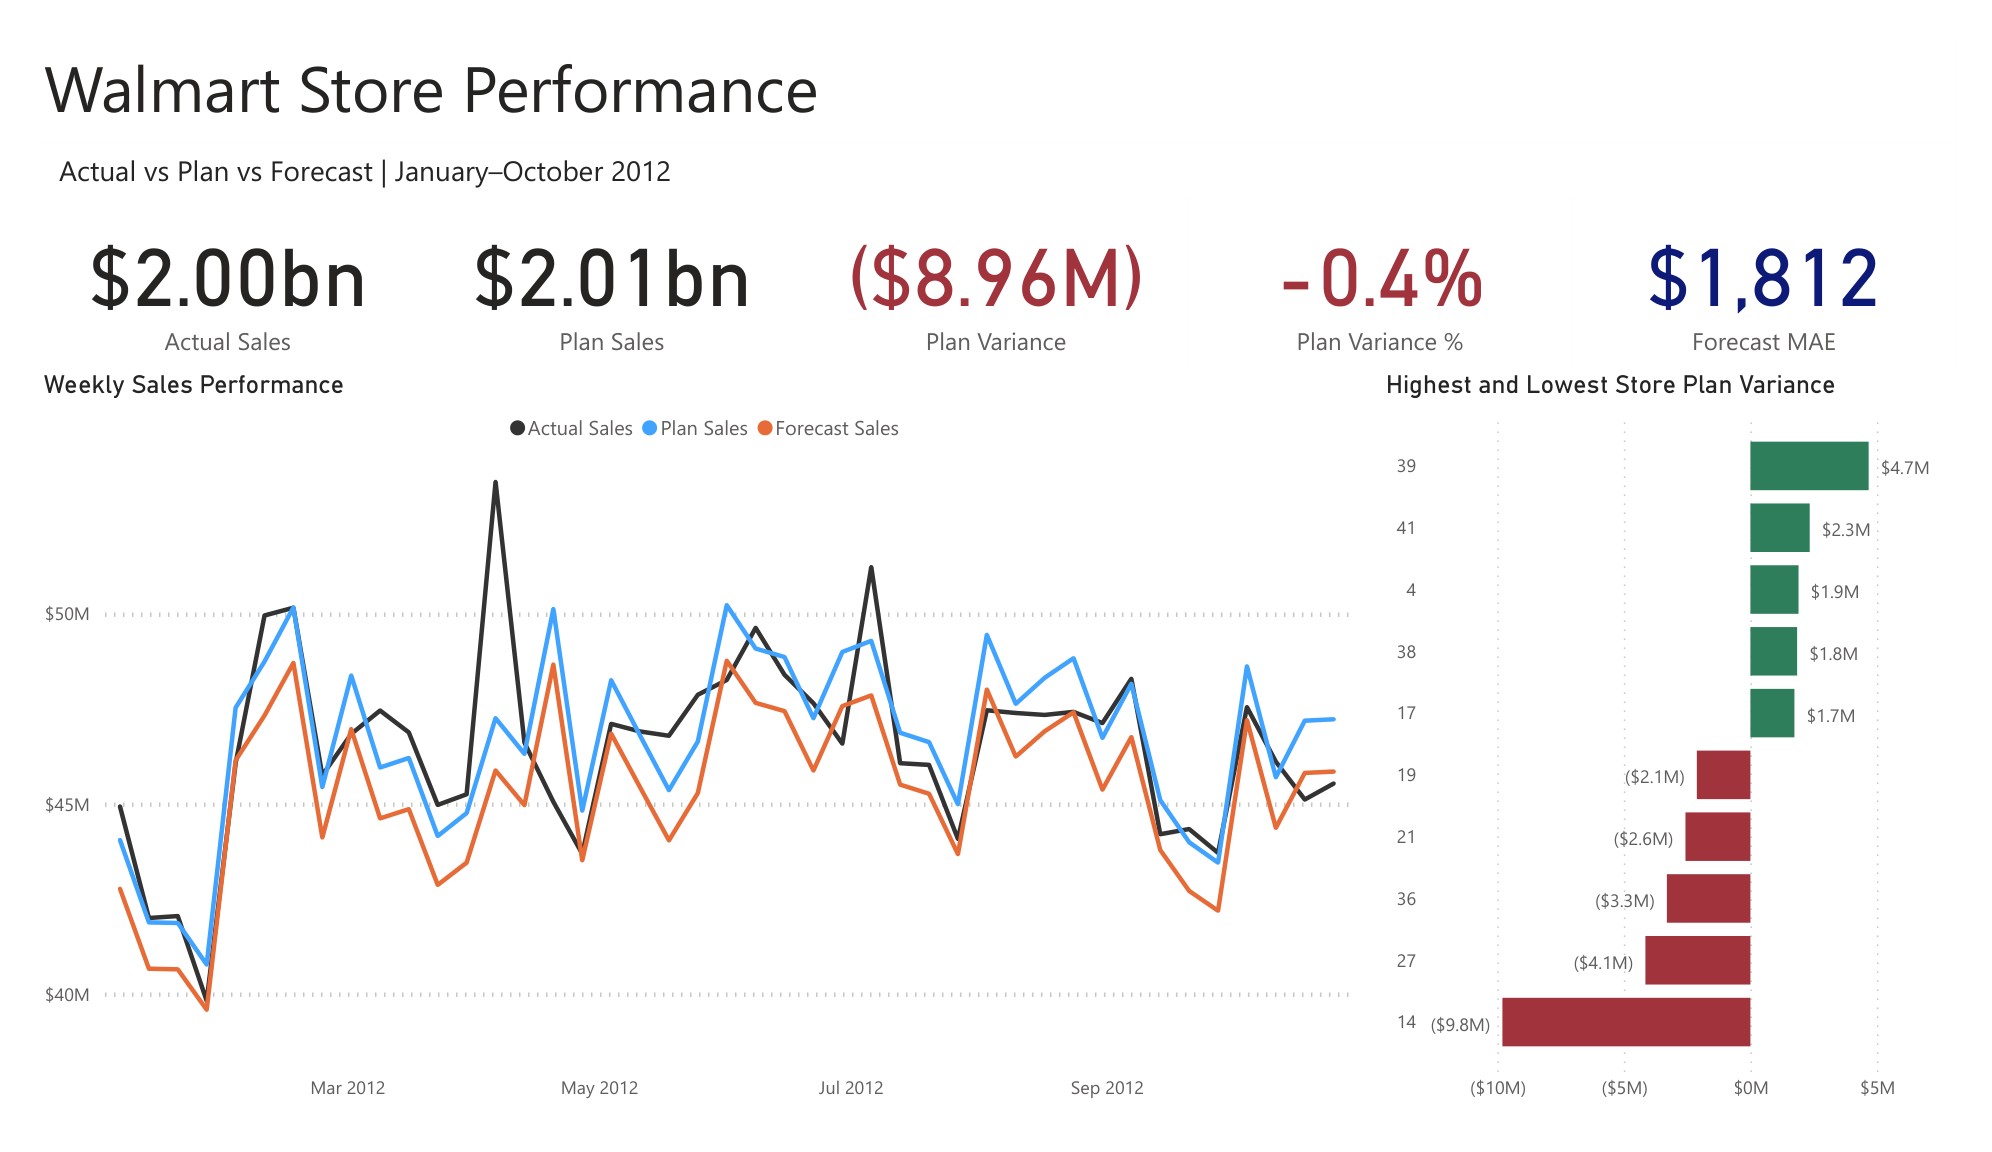

The page's visual inventory and layout, read from the dashboard file:
{"tool":"powerbi","page":{"name":"Executive Summary","canvas":[1280,720],"ordinal":0},"visuals":[{"type":"textbox","box":[0,0,1279.7,71.9],"z":0},{"type":"textbox","box":[0,71.9,1279.7,40.1],"z":1000},{"type":"group","id":"g1","title":"Group 1","box":[0,108.1,1279.7,114.3],"z":2000},{"type":"card","fields":{"Values":["fact_weekly_sales.Actual Sales"]},"box":[0,108.1,255.7,114.3],"z":2000,"group":"g1"},{"type":"card","fields":{"Values":["fact_weekly_sales.Plan Sales"]},"box":[255.7,108.1,255.7,114.3],"z":3000,"group":"g1"},{"type":"lineChart","title":"Weekly Sales Performance","fields":{"Category":["dim_date.Date"],"Y":["fact_weekly_sales.Actual Sales","fact_weekly_sales.Plan Sales","fact_weekly_sales.Forecast Sales"]},"box":[0,222,895.1,497.7],"z":3000},{"type":"card","fields":{"Values":["fact_weekly_sales.Plan Variance %"]},"box":[767.8,108.1,255.9,114.3],"z":4000,"group":"g1"},{"type":"clusteredBarChart","title":"Highest and Lowest Store Plan Variance","fields":{"Category":["dim_store.Store"],"Y":["fact_weekly_sales.Plan Variance"]},"box":[895.1,222,384.9,497.7],"z":4000},{"type":"card","fields":{"Values":["fact_weekly_sales.Plan Variance"]},"box":[511.9,108.1,255.9,114.3],"z":5000,"group":"g1"},{"type":"card","fields":{"Values":["fact_weekly_sales.Forecast MAE"]},"box":[1023.8,108.1,255.9,114.3],"z":6000,"group":"g1"}]}

Visuals, with their boxes in screenshot pixels (x1, y1, x2, y2), scaled from the page's 1280x720 canvas onto the 1992x1152 screenshot:
textbox: select_region(0, 0, 1991, 115)
textbox: select_region(0, 115, 1991, 179)
"Group 1" group: select_region(0, 173, 1991, 356)
card - fact_weekly_sales.Actual Sales: select_region(0, 173, 398, 356)
card - fact_weekly_sales.Plan Sales: select_region(398, 173, 796, 356)
"Weekly Sales Performance" lineChart: select_region(0, 355, 1393, 1151)
card - fact_weekly_sales.Plan Variance %: select_region(1195, 173, 1593, 356)
"Highest and Lowest Store Plan Variance" clusteredBarChart: select_region(1393, 355, 1991, 1151)
card - fact_weekly_sales.Plan Variance: select_region(797, 173, 1195, 356)
card - fact_weekly_sales.Forecast MAE: select_region(1593, 173, 1991, 356)
